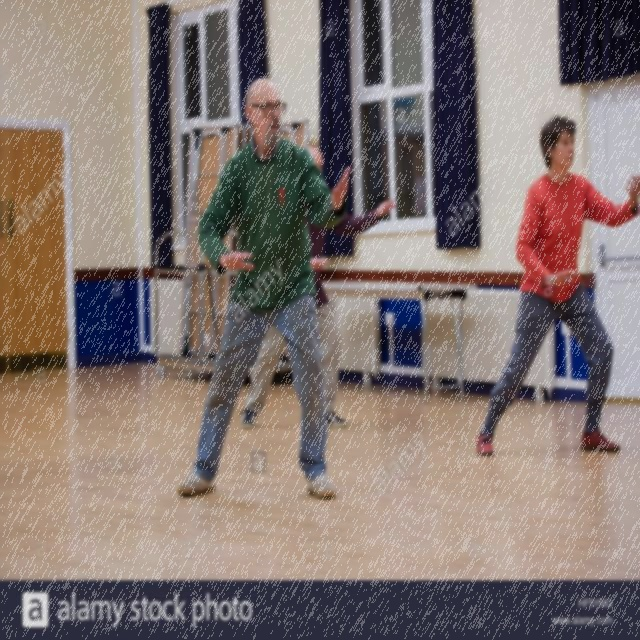pessoa: (176, 74, 352, 500), (472, 110, 640, 460), (241, 140, 401, 434)
